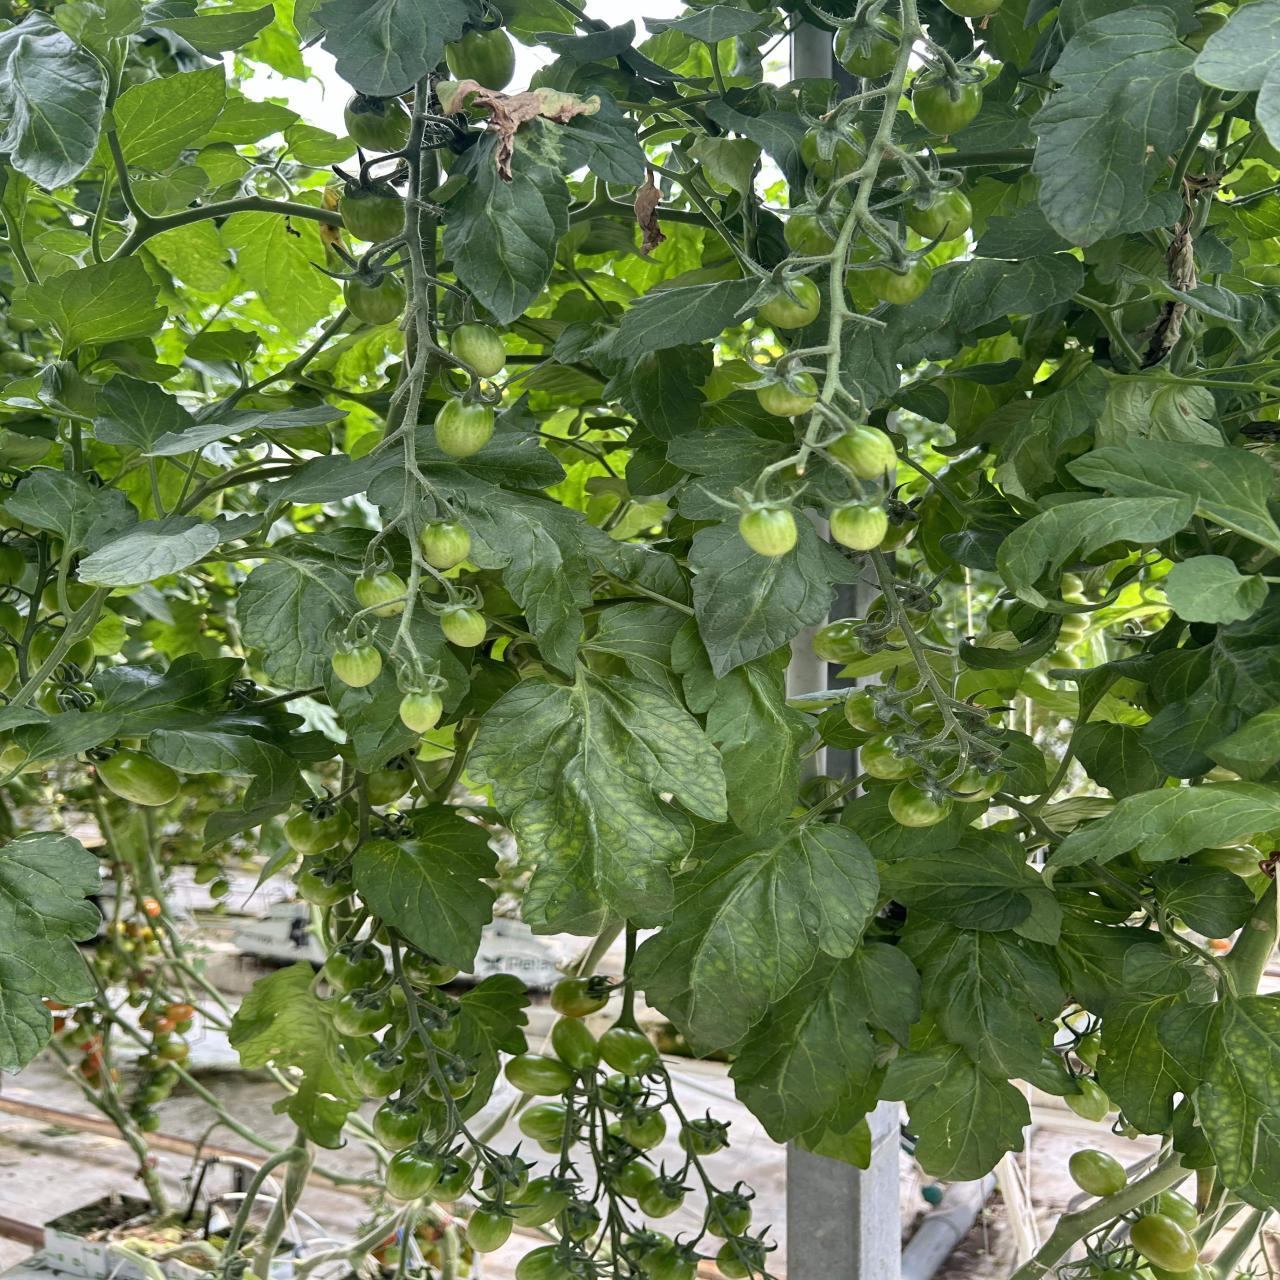Hoja: (1030, 7, 1204, 245), (442, 117, 642, 322), (729, 940, 920, 1149), (436, 470, 622, 673), (899, 903, 1065, 1081), (689, 513, 858, 676), (353, 806, 496, 968), (879, 1040, 1029, 1180), (0, 12, 109, 189), (1050, 782, 1280, 865), (237, 556, 362, 689), (313, 0, 483, 96), (881, 832, 1044, 931), (79, 522, 220, 587)
Hoja rugoso: (468, 666, 727, 930), (635, 822, 879, 1049)
Pedunculo: (386, 79, 437, 688)
Tomate: (97, 749, 181, 806), (826, 427, 897, 479), (435, 399, 493, 458), (758, 277, 821, 328), (450, 322, 505, 379), (740, 508, 797, 557), (830, 503, 888, 551), (756, 376, 816, 417), (332, 646, 382, 687), (355, 572, 407, 608), (441, 608, 486, 647), (400, 692, 442, 733)
